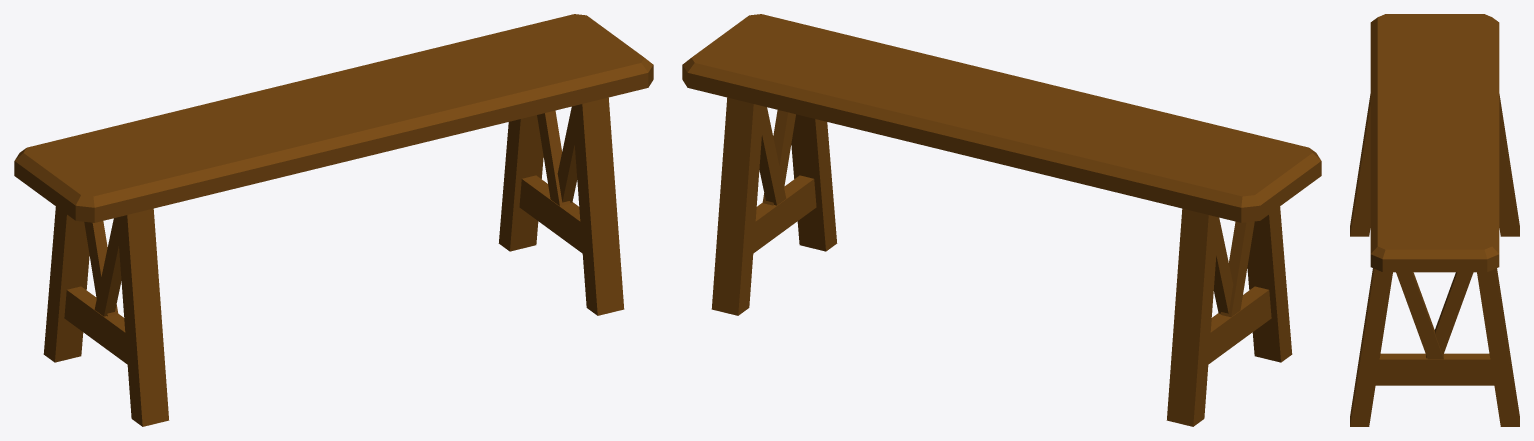
The model's file is SM_Furniture_BenchLong_Umber_01.fbx.
3 views of the same model, side by side, from view 1: azimuth 30°, elevation 25°; view 2: azimuth 150°, elevation 25°; view 3: azimuth 270°, elevation 25° (orthographic). The views are drawn at different scales.
Visible parts, largest first — view 1: SM_Furniture_BenchLong_Umber_01; view 2: SM_Furniture_BenchLong_Umber_01; view 3: SM_Furniture_BenchLong_Umber_01.
Boxes of the visible parts, <box> form: SM_Furniture_BenchLong_Umber_01: <box>14,14,653,426</box>; SM_Furniture_BenchLong_Umber_01: <box>682,14,1321,426</box>; SM_Furniture_BenchLong_Umber_01: <box>1350,14,1519,426</box>.
Size of the model in its own units: 1.2 by 0.45 by 0.356.
Materials: 1 (1 with a texture image).
